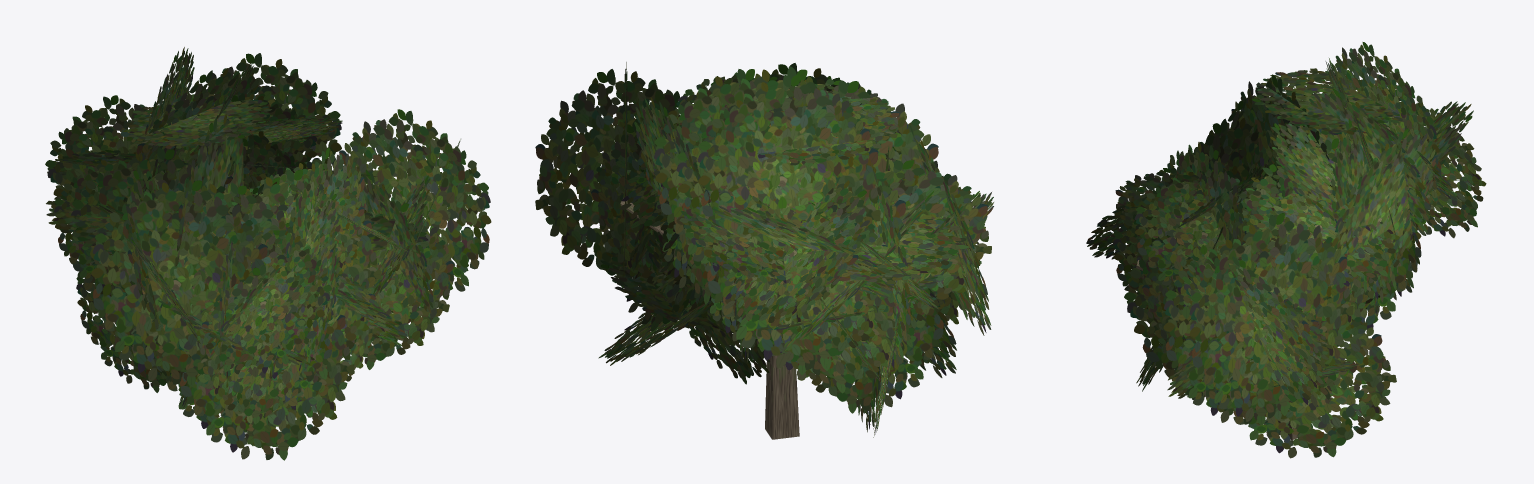
File: Tree_Oak_Lone_1_LOD2.gltf
3 views of the same model, side by side, from view 1: azimuth 30°, elevation 25°; view 2: azimuth 150°, elevation 25°; view 3: azimuth 270°, elevation 25° (orthographic). The views are drawn at different scales.
Parts seen in each view (by area): view 1: Tree_Oak_Lone_1_LOD2; view 2: Tree_Oak_Lone_1_LOD2; view 3: Tree_Oak_Lone_1_LOD2.
Part boxes in pixels (x1=…): Tree_Oak_Lone_1_LOD2: x1=45, y1=47, x2=491, y2=460; Tree_Oak_Lone_1_LOD2: x1=535, y1=62, x2=993, y2=439; Tree_Oak_Lone_1_LOD2: x1=1086, y1=42, x2=1486, y2=458.
Size of the model in its own units: 18.58 by 14.61 by 16.13.
2 materials, 2 textured.
